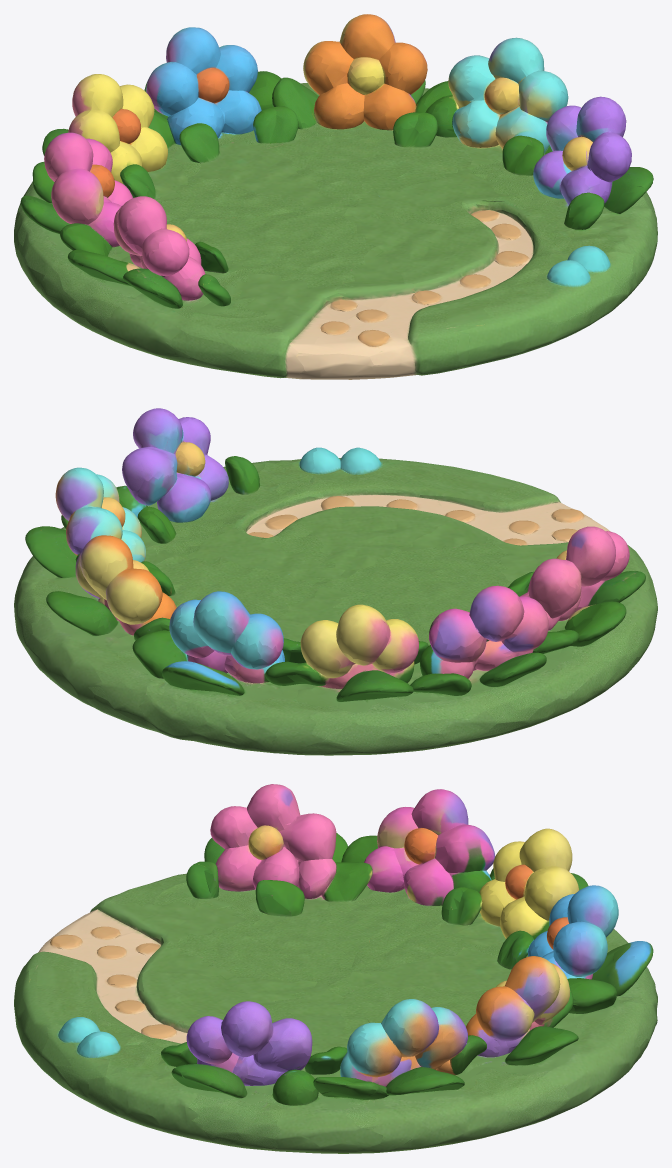
File: rainbow-flower-meadow-v1.glb
The picture shows the model from 3 angles, top to bottom: view 1: azimuth 30°, elevation 25°; view 2: azimuth 150°, elevation 25°; view 3: azimuth 270°, elevation 25°; orthographic projection.
Bounding box in the file's own units: 1.9 × 0.4186 × 1.9.
1 material, 1 textured.
